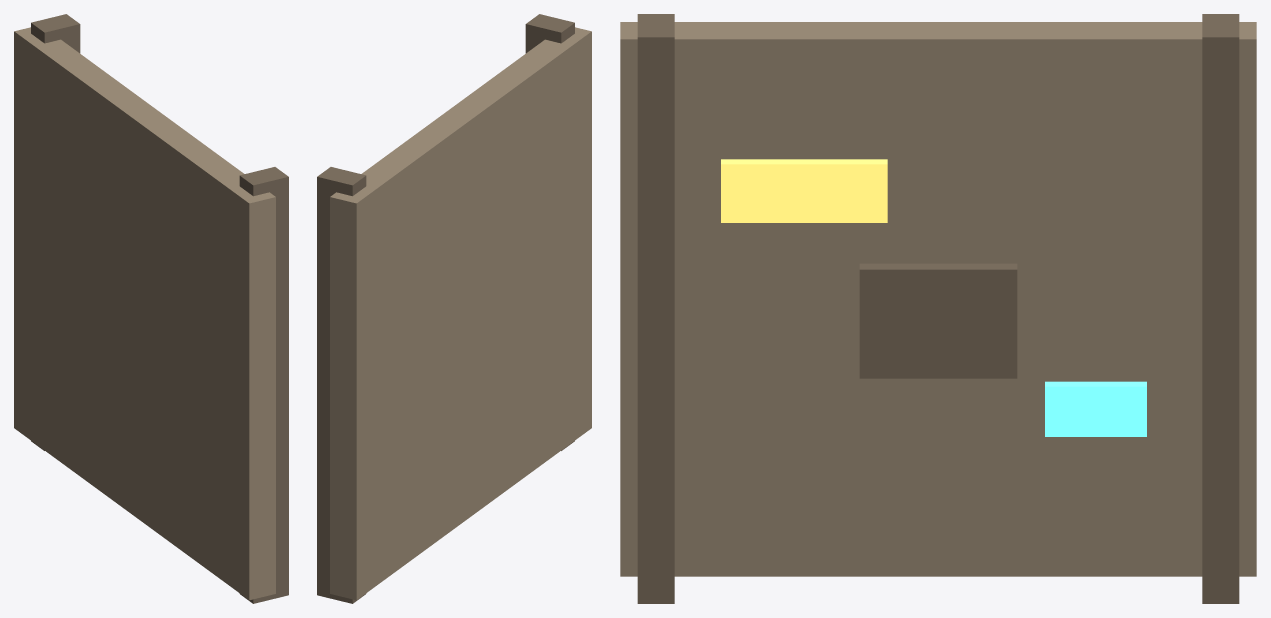
Rendered from refinery-wall-service-panel-lod2.glb.
3 renders of one model, left to right at view 1: azimuth 30°, elevation 25°; view 2: azimuth 150°, elevation 25°; view 3: azimuth 270°, elevation 25°, orthographic. The views are drawn at different scales.
Parts seen in each view (by area): view 1: refinery-wall-service-panel-shell, refinery-wall-service-panel-frame-right, refinery-wall-service-panel-frame-left; view 2: refinery-wall-service-panel-shell, refinery-wall-service-panel-frame-left, refinery-wall-service-panel-frame-right; view 3: refinery-wall-service-panel-shell, refinery-wall-service-panel-frame-left, refinery-wall-service-panel-frame-right, refinery-wall-service-panel-vent, refinery-wall-service-panel-signage, refinery-wall-service-panel-status.
Part boxes in pixels (x1,y1,x2,y2): refinery-wall-service-panel-shell: [14, 27, 275, 600]; refinery-wall-service-panel-frame-right: [239, 167, 288, 603]; refinery-wall-service-panel-frame-left: [31, 14, 80, 450]; refinery-wall-service-panel-shell: [330, 27, 591, 600]; refinery-wall-service-panel-frame-left: [317, 167, 366, 603]; refinery-wall-service-panel-frame-right: [525, 14, 574, 450]; refinery-wall-service-panel-shell: [620, 22, 1256, 576]; refinery-wall-service-panel-frame-left: [1202, 14, 1239, 603]; refinery-wall-service-panel-frame-right: [637, 14, 674, 603]; refinery-wall-service-panel-vent: [859, 263, 1017, 378]; refinery-wall-service-panel-signage: [721, 159, 887, 222]; refinery-wall-service-panel-status: [1045, 381, 1146, 436].
Size of the model in its own units: 0.31 by 2.7 by 2.75.
